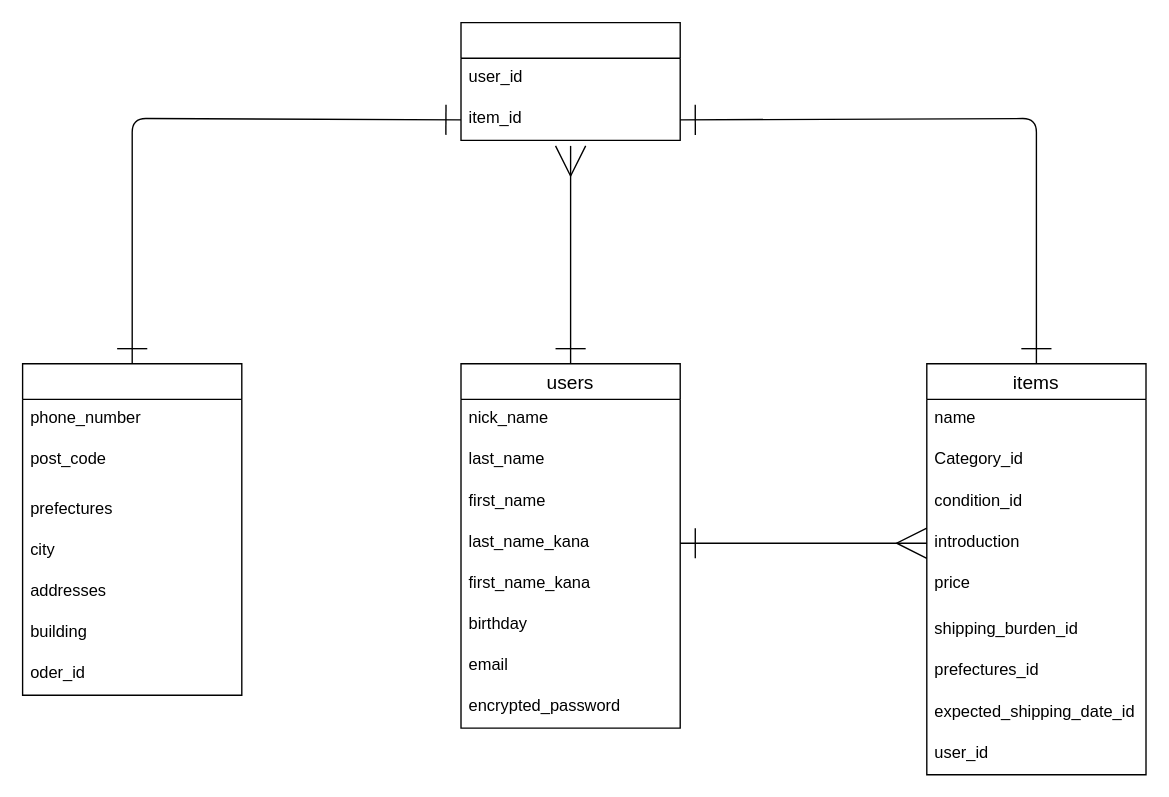
Some shapes in this 1169 by 797 pixel diagram are drawn without their labels. Here are the shapes that lost their labels. From the top down, the box of each, then its label:
(460, 21, 680, 140): oders
(21, 362, 242, 695): shippings
